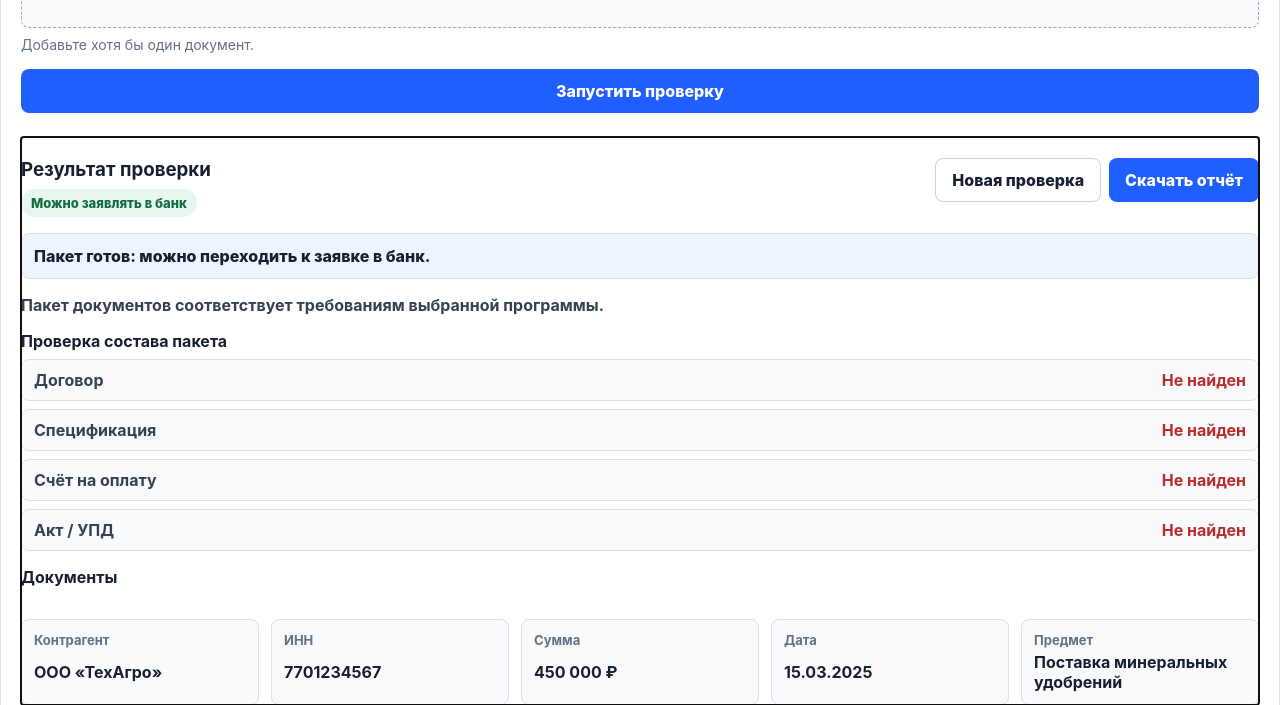
Test: UploadPanel › resets the form after starting a new check
(page scrolled)
What coordinates should you click on to do the following:
click the button "Новая проверка"
I would click on:
 (1018, 180)
Its box is [935, 158, 1101, 202].
(page scrolled)
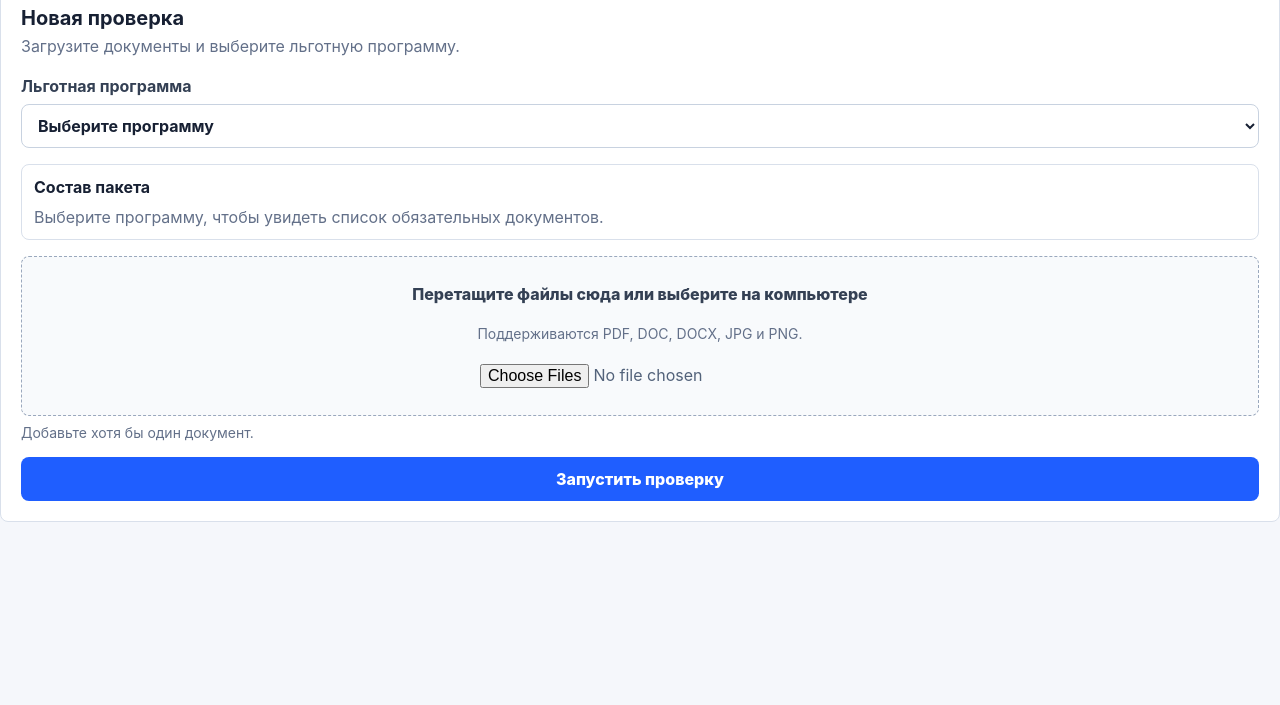
Expected: the heading "Результат проверки" is gone
Expected: the dropdown labelled "Льготная программа" shows "Выберите программу", [21, 104, 1259, 148]
